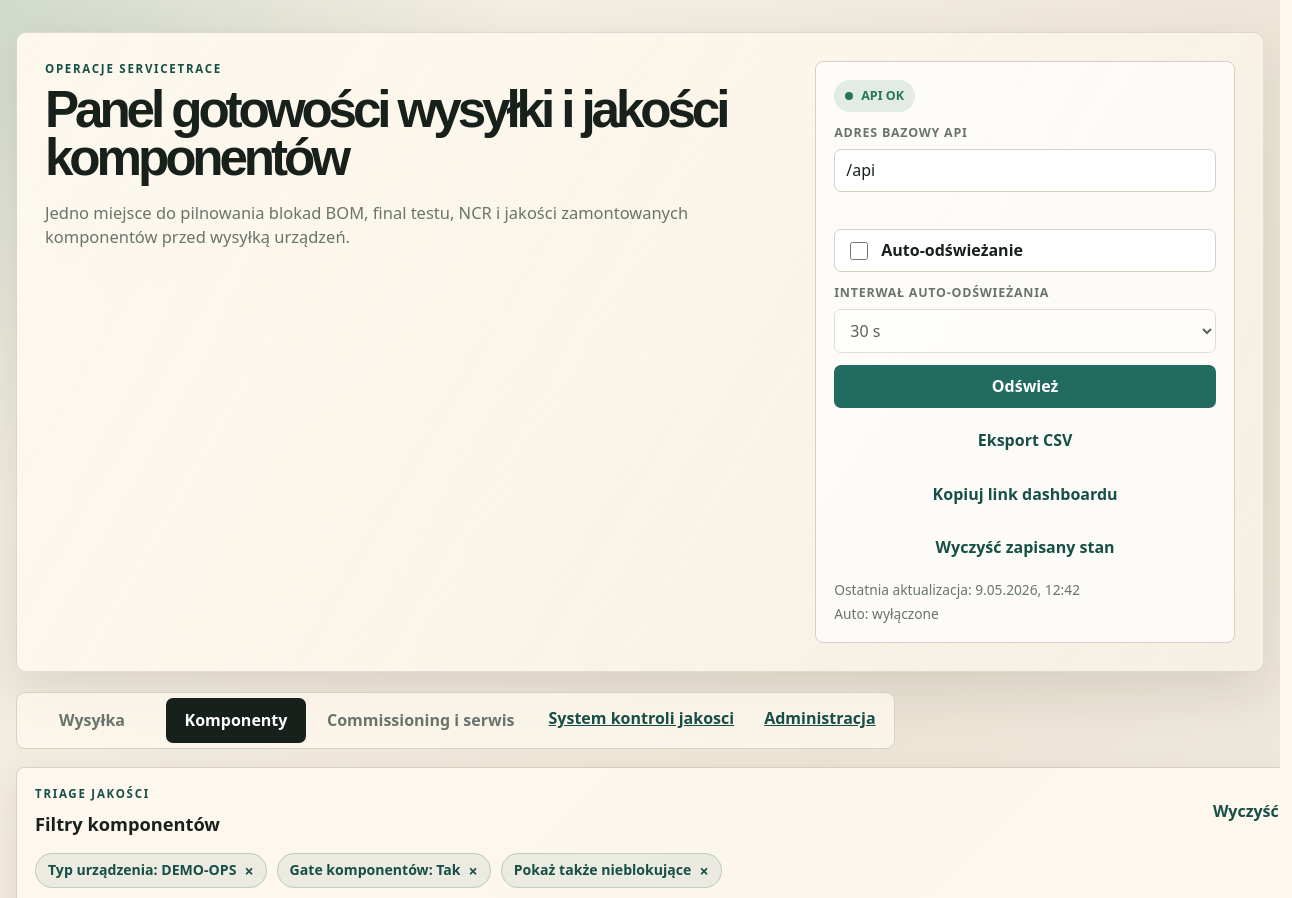
Scenario: App › copies current dashboard link with active filters
The width and height of the screenshot is (1292, 898).
Click the button "Kopiuj link dashboardu": (1025, 494) [834,474,1216,515]
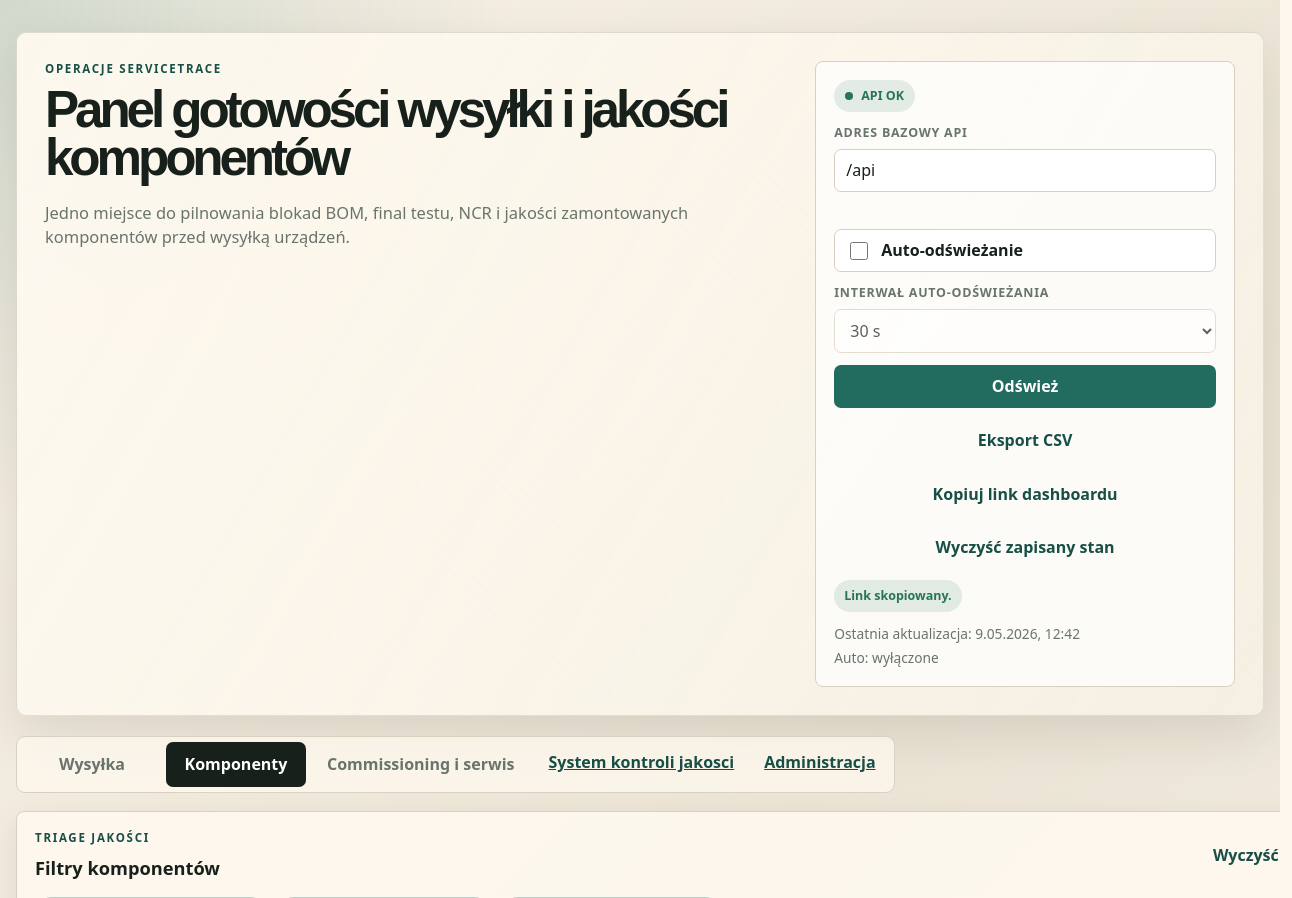
expect the message reads "Link skopiowany.": met, box [844,587,952,604]
